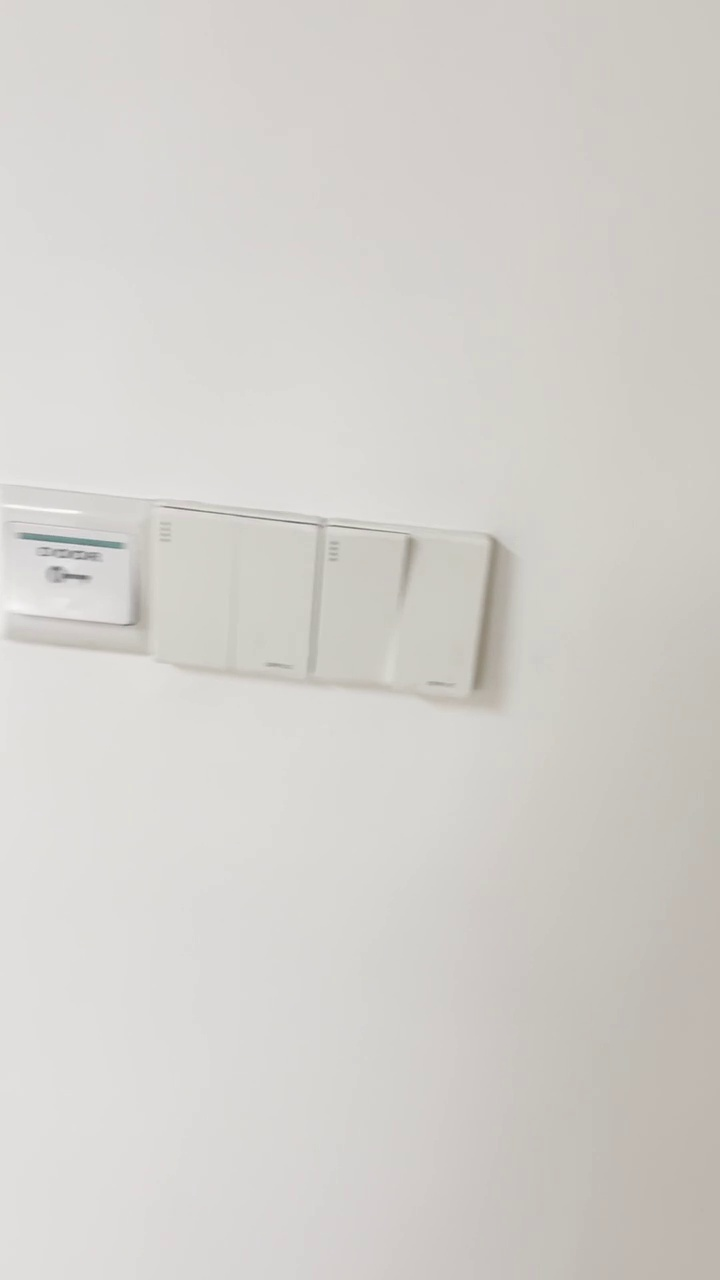button: (317, 521, 500, 702), (149, 497, 322, 683)
